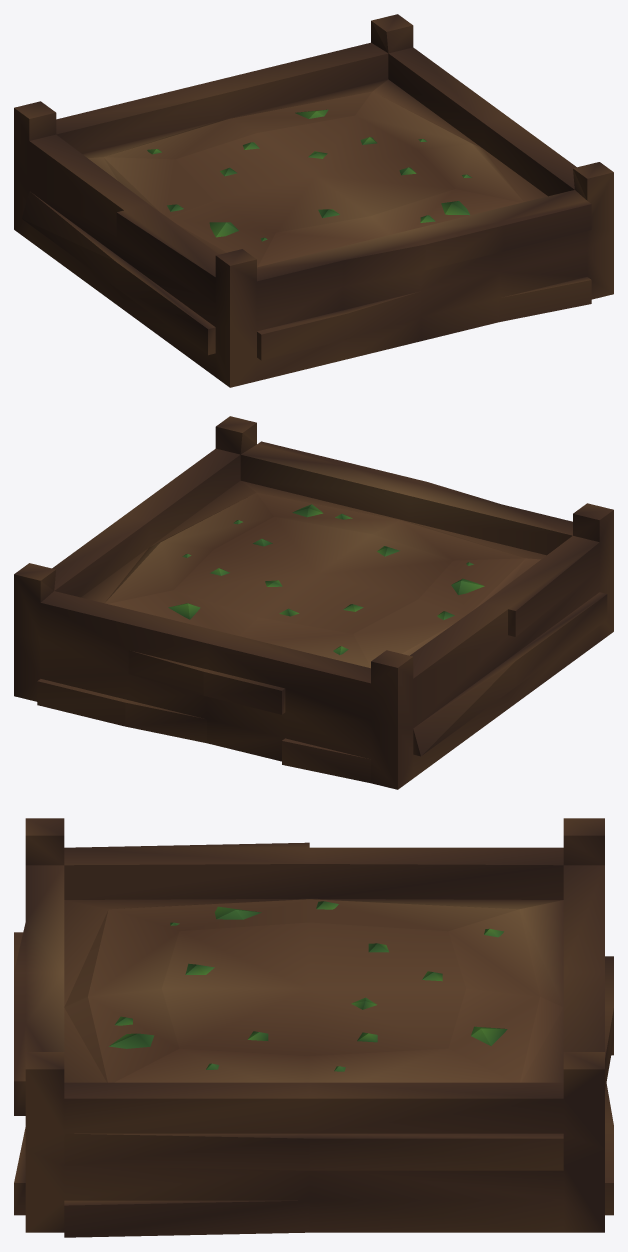
Rendered from Tree_Patch.glb.
The picture shows the model from 3 angles, top to bottom: view 1: azimuth 30°, elevation 25°; view 2: azimuth 150°, elevation 25°; view 3: azimuth 270°, elevation 25°; orthographic projection. The views are drawn at different scales.
Visible parts, largest first — view 1: Herb Patch; view 2: Herb Patch; view 3: Herb Patch.
Part boxes in pixels (x1,y1,x2,y2): Herb Patch: (14, 14, 613, 387); Herb Patch: (14, 416, 613, 789); Herb Patch: (14, 818, 613, 1237).
Bounding box in the file's own units: 2.09 × 0.61 × 2.03.
